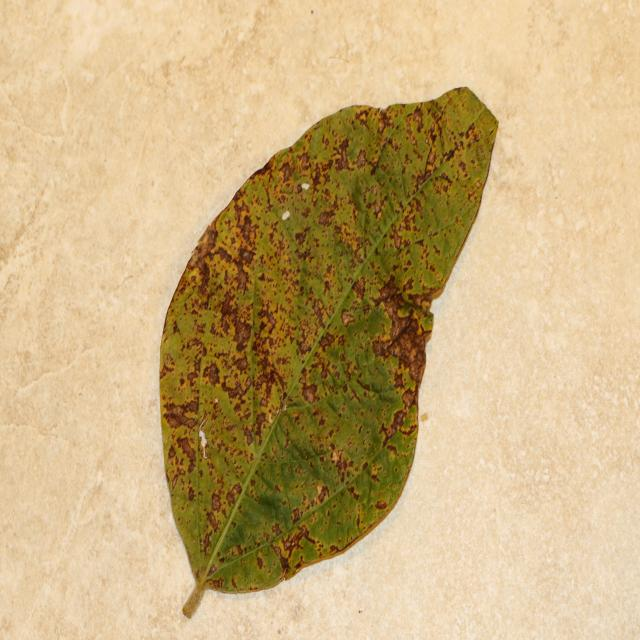Bacterial_Blight: (372, 276, 423, 402), (328, 490, 406, 556), (176, 229, 227, 325), (429, 104, 486, 185), (161, 385, 206, 477), (236, 151, 290, 211), (252, 366, 282, 412), (448, 87, 485, 118), (329, 447, 357, 483), (405, 286, 436, 315), (224, 372, 249, 404), (268, 541, 290, 575), (376, 277, 400, 306), (296, 538, 320, 563), (294, 241, 315, 264), (415, 164, 433, 190), (334, 146, 351, 173), (202, 361, 220, 386), (375, 109, 393, 133), (317, 208, 336, 228), (312, 300, 326, 325), (301, 383, 318, 403), (351, 276, 366, 298), (372, 339, 389, 358), (319, 333, 335, 352), (189, 244, 204, 264), (316, 484, 329, 504), (243, 425, 255, 446), (226, 486, 238, 507), (264, 309, 276, 330), (369, 156, 382, 175), (201, 532, 212, 553), (311, 167, 323, 186), (341, 311, 355, 327), (356, 150, 367, 169), (393, 233, 406, 249), (406, 130, 418, 147), (372, 203, 383, 219), (242, 249, 254, 263), (291, 507, 301, 523), (167, 445, 177, 461), (206, 563, 217, 577), (358, 110, 369, 123), (375, 500, 388, 510), (371, 184, 378, 197)
Soybean: (160, 89, 498, 615)
